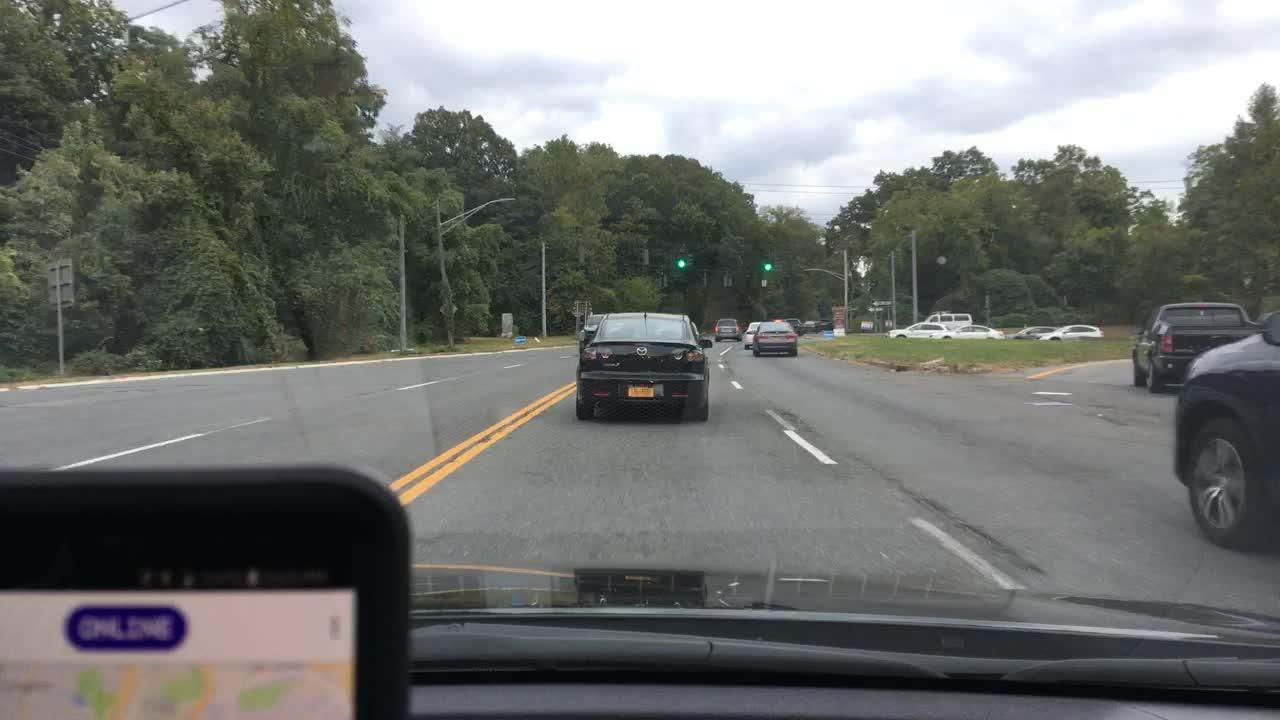Mazda: (630, 339, 656, 361)
